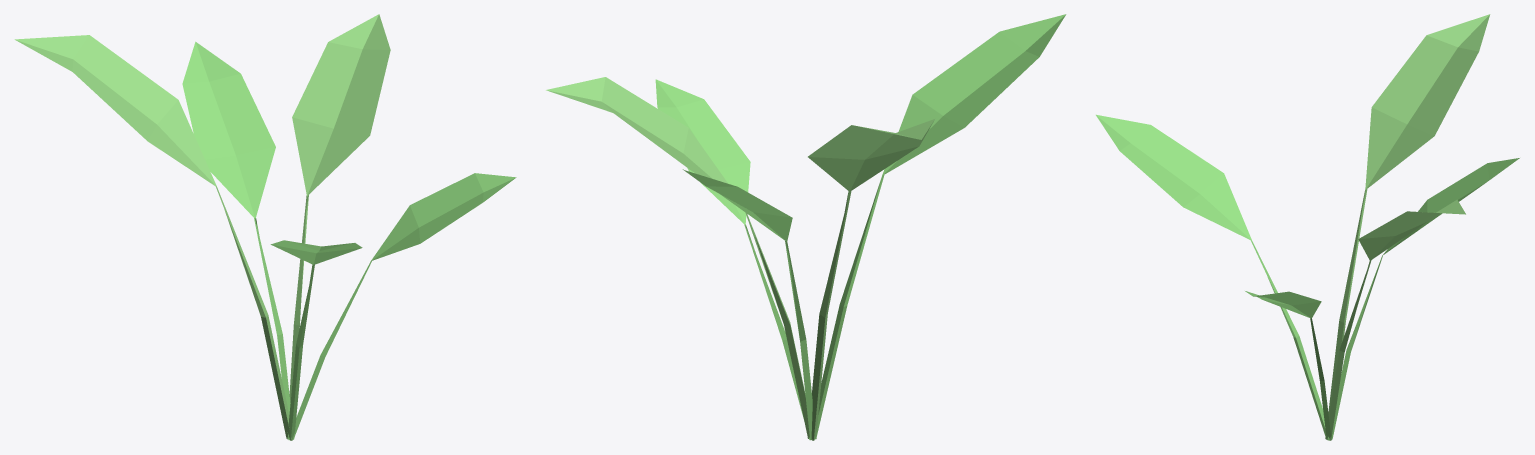
Rendered from Plant_j_OneS_04.fbx.
3 views of the same model, side by side, from view 1: azimuth 30°, elevation 25°; view 2: azimuth 150°, elevation 25°; view 3: azimuth 270°, elevation 25° (orthographic). The views are drawn at different scales.
Parts seen in each view (by area): view 1: Plant_j_OneS_04; view 2: Plant_j_OneS_04; view 3: Plant_j_OneS_04.
Boxes of the visible parts, box(x1,y1,x2,y2) form: Plant_j_OneS_04: box(14, 14, 516, 440); Plant_j_OneS_04: box(546, 14, 1066, 440); Plant_j_OneS_04: box(1096, 14, 1519, 440).
Size of the model in its own units: 50.32 by 49.32 by 55.36.
